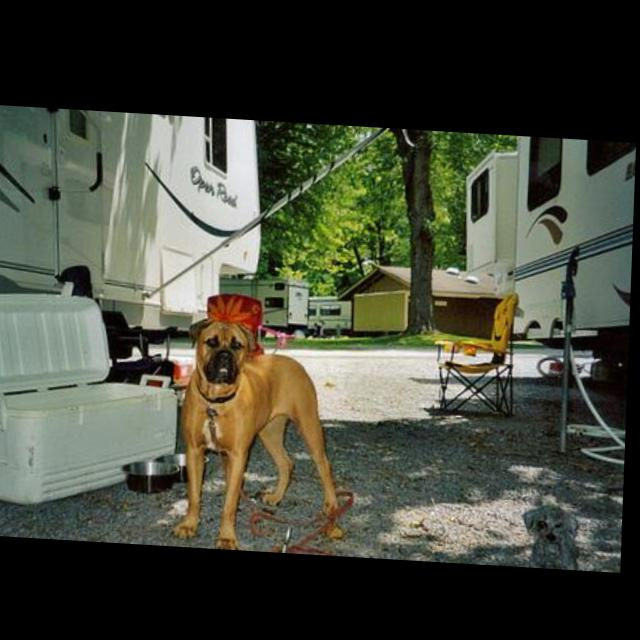bullmastiff: (175, 317, 350, 553)
